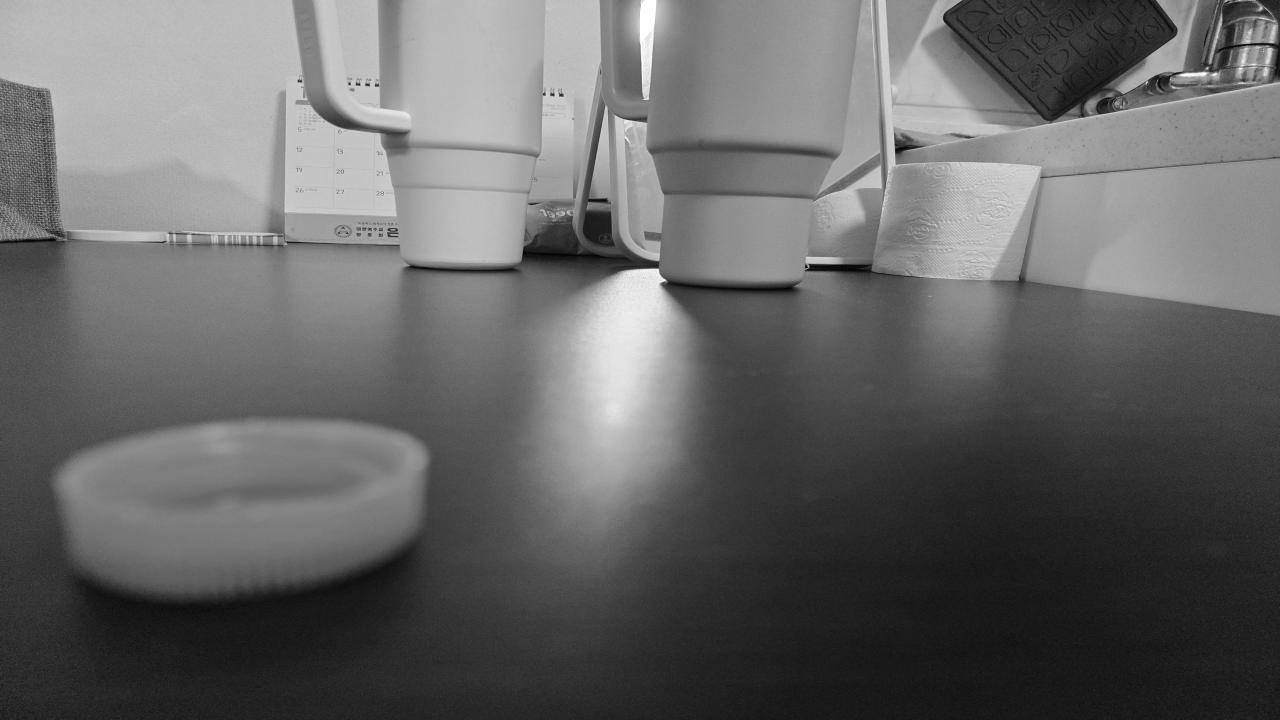bottle_cap: (67, 428, 416, 584)
